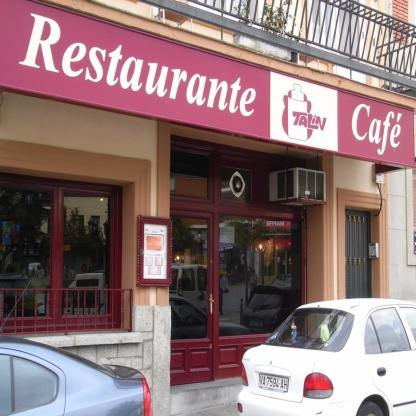Car: (239, 298, 416, 416), (1, 282, 153, 416)
